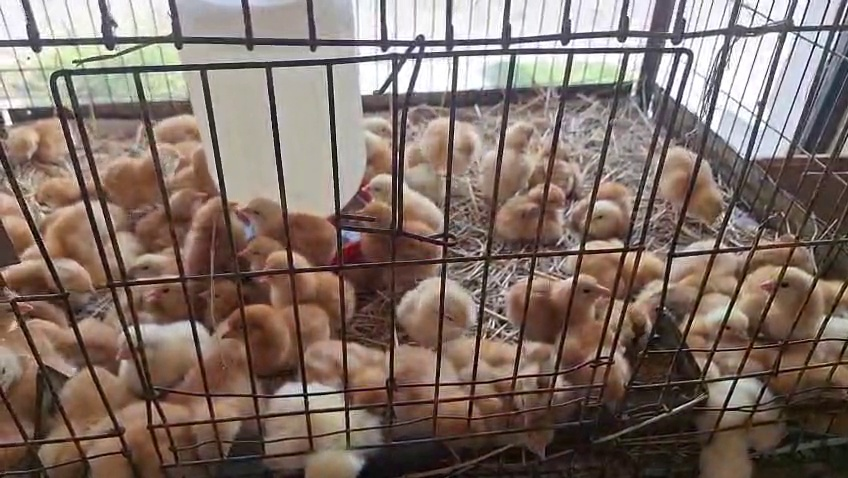Pollo: (264, 367, 398, 478), (178, 337, 276, 462), (683, 356, 782, 478), (40, 362, 142, 477), (402, 331, 486, 441), (229, 284, 334, 371), (257, 245, 361, 332), (0, 318, 67, 451), (106, 391, 205, 478), (310, 316, 409, 403), (111, 307, 209, 394), (474, 316, 572, 403), (537, 311, 635, 398), (346, 199, 450, 277), (498, 259, 605, 333), (639, 142, 728, 230), (233, 190, 350, 253), (392, 264, 481, 343), (480, 391, 578, 459), (404, 84, 480, 171), (89, 137, 168, 220), (475, 104, 550, 191), (29, 194, 123, 262), (745, 263, 822, 344), (356, 109, 445, 174), (484, 174, 563, 247), (559, 231, 663, 283), (183, 188, 257, 261), (0, 249, 92, 307), (680, 294, 760, 354), (668, 225, 751, 282), (558, 176, 633, 236), (19, 145, 93, 203), (111, 95, 204, 141), (146, 176, 206, 245), (608, 281, 681, 337), (231, 222, 294, 285), (356, 162, 444, 207), (137, 261, 208, 316), (193, 272, 261, 327), (0, 115, 68, 168), (518, 137, 573, 189), (161, 124, 211, 176), (353, 94, 402, 143), (126, 248, 189, 280)
